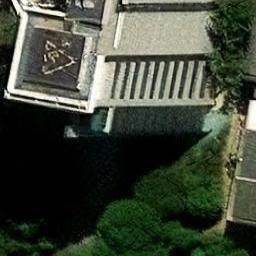heliponto: (21, 25, 89, 88)
